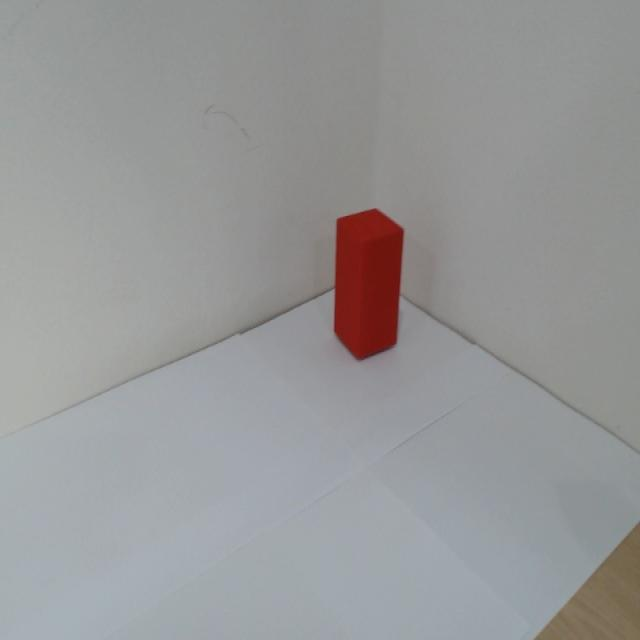cube: (328, 203, 410, 369)
